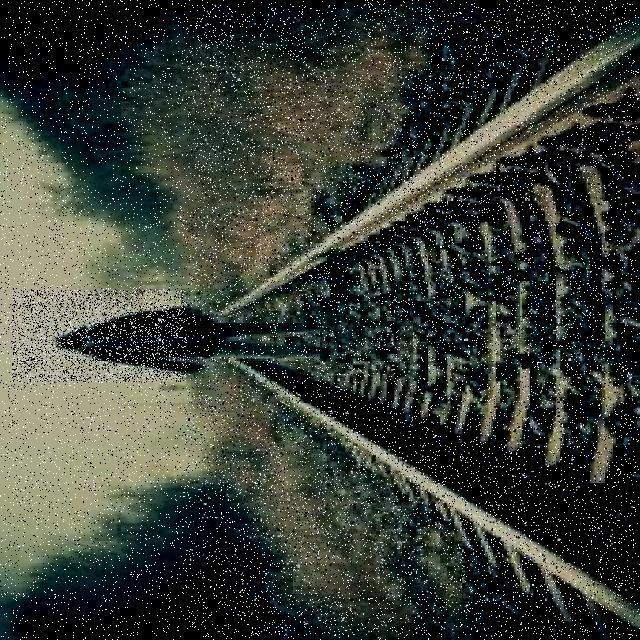rail: (188, 5, 637, 636)
